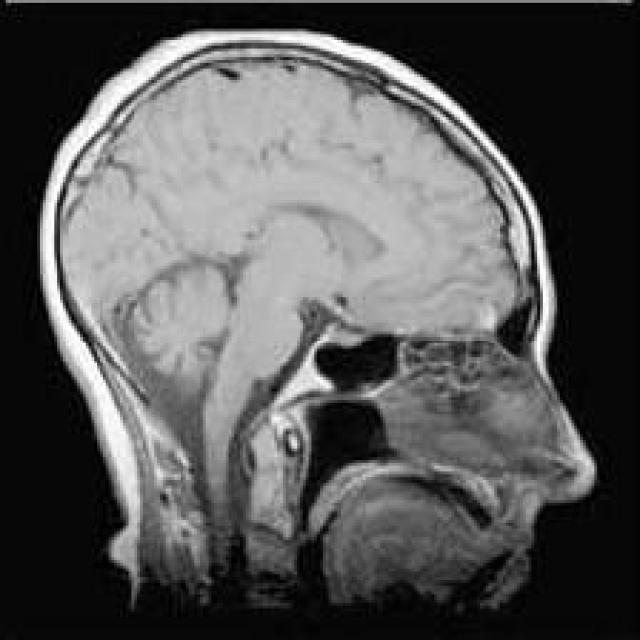no_tumor: (18, 25, 592, 542)
